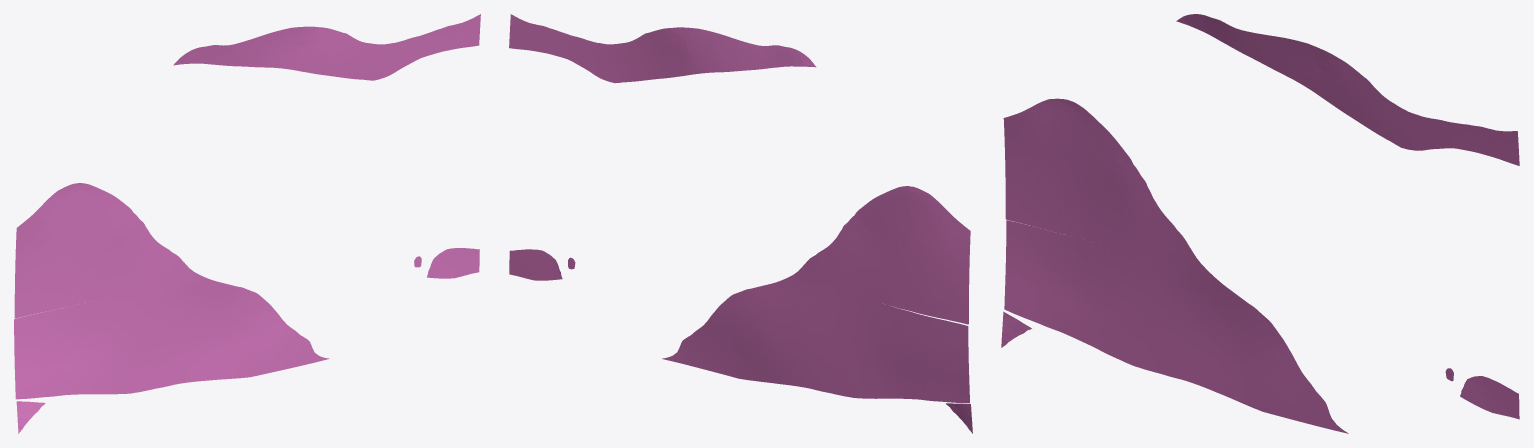
The model's file is 03_TopMiddleScottishCoalMeasures_50m_GGERFS_Predrill.gltf.
3 renders of one model, left to right at view 1: azimuth 30°, elevation 25°; view 2: azimuth 150°, elevation 25°; view 3: azimuth 330°, elevation 25°, orthographic. The views are drawn at different scales.
Parts seen in each view (by area): view 1: 03_TOPMIDDLESCOTTISHCOALMEASURES_50M_GGERFS_PREDRILL; view 2: 03_TOPMIDDLESCOTTISHCOALMEASURES_50M_GGERFS_PREDRILL; view 3: 03_TOPMIDDLESCOTTISHCOALMEASURES_50M_GGERFS_PREDRILL.
Boxes of the visible parts, x1=… form: 03_TOPMIDDLESCOTTISHCOALMEASURES_50M_GGERFS_PREDRILL: x1=14, y1=14, x2=480, y2=433; 03_TOPMIDDLESCOTTISHCOALMEASURES_50M_GGERFS_PREDRILL: x1=509, y1=14, x2=972, y2=433; 03_TOPMIDDLESCOTTISHCOALMEASURES_50M_GGERFS_PREDRILL: x1=1001, y1=14, x2=1519, y2=433.
Bounding box in the file's own units: 5005 × 3547 × 90.66.
